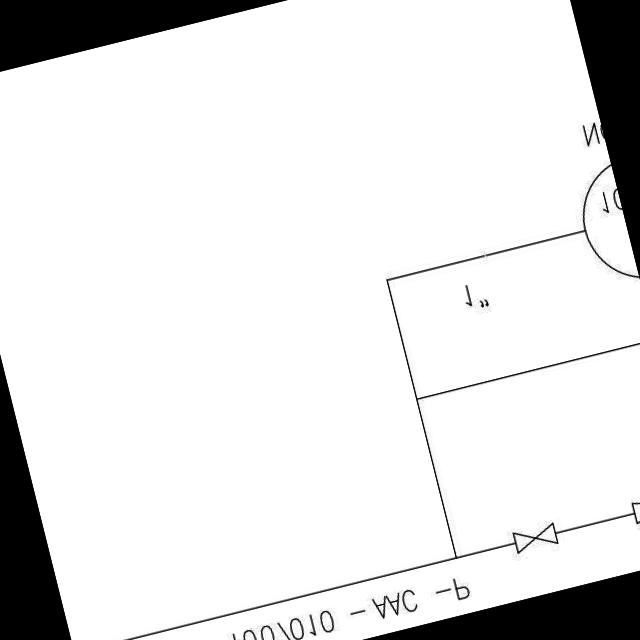GV: (508, 517, 562, 557)
SP: (627, 494, 640, 526)
